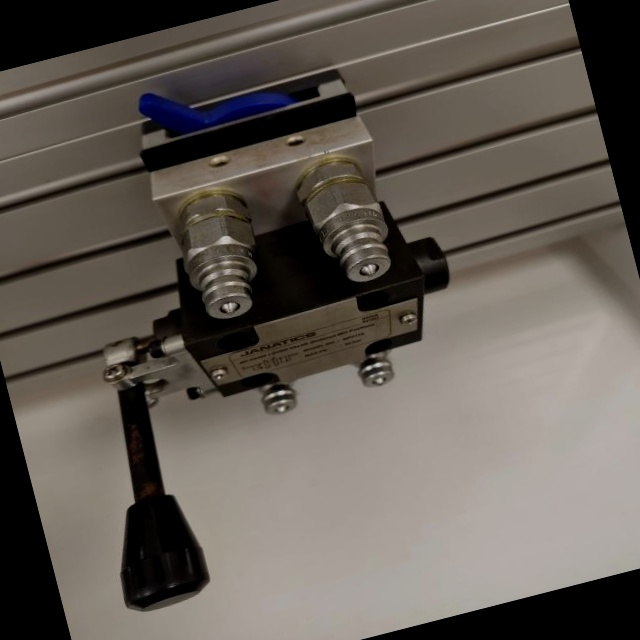4by3 hand lever valve: (3, 29, 522, 622)
